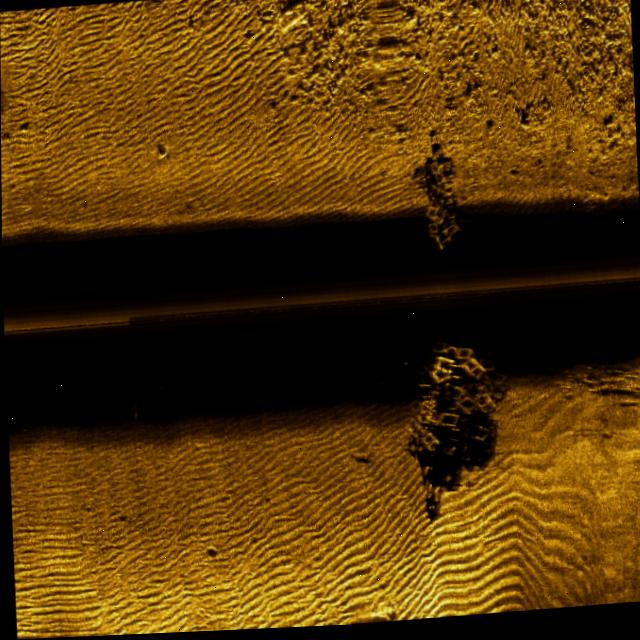artificial reef: (363, 334, 517, 488), (399, 155, 473, 262)
